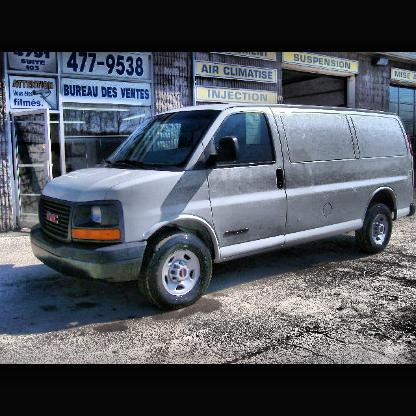GMC Savana Van 2012: (31, 111, 415, 309)
